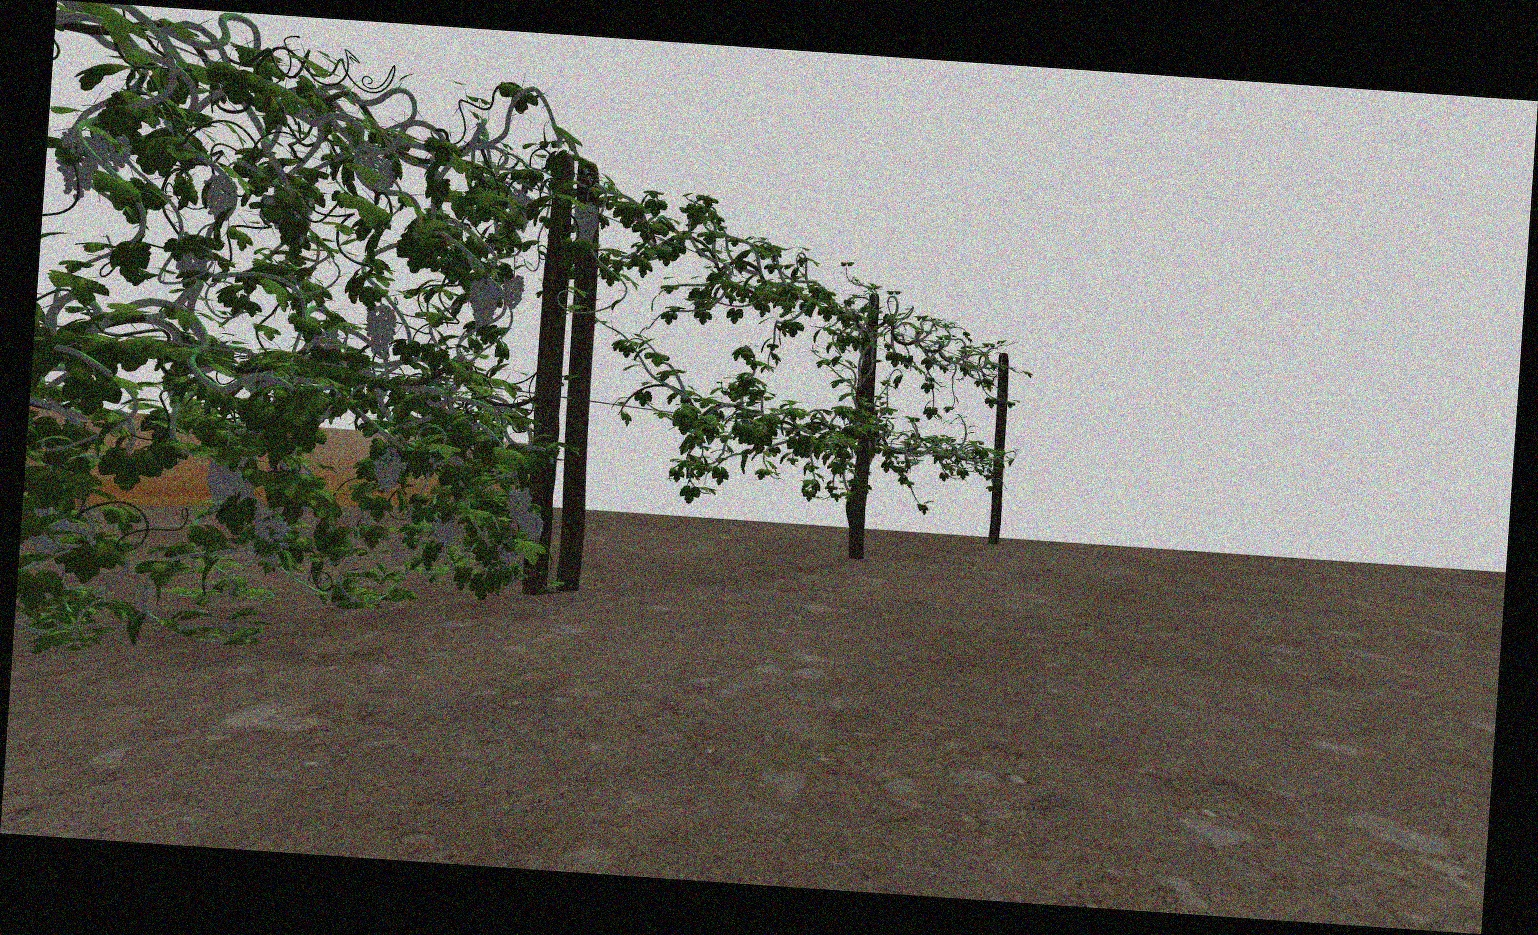grape: (56, 130, 97, 199), (88, 133, 134, 171), (364, 303, 395, 358), (205, 458, 239, 507), (468, 279, 499, 329), (207, 174, 236, 219), (374, 447, 401, 492), (572, 202, 599, 246), (255, 509, 287, 543), (501, 272, 525, 308), (517, 512, 545, 543), (431, 517, 456, 550), (508, 488, 531, 522)
